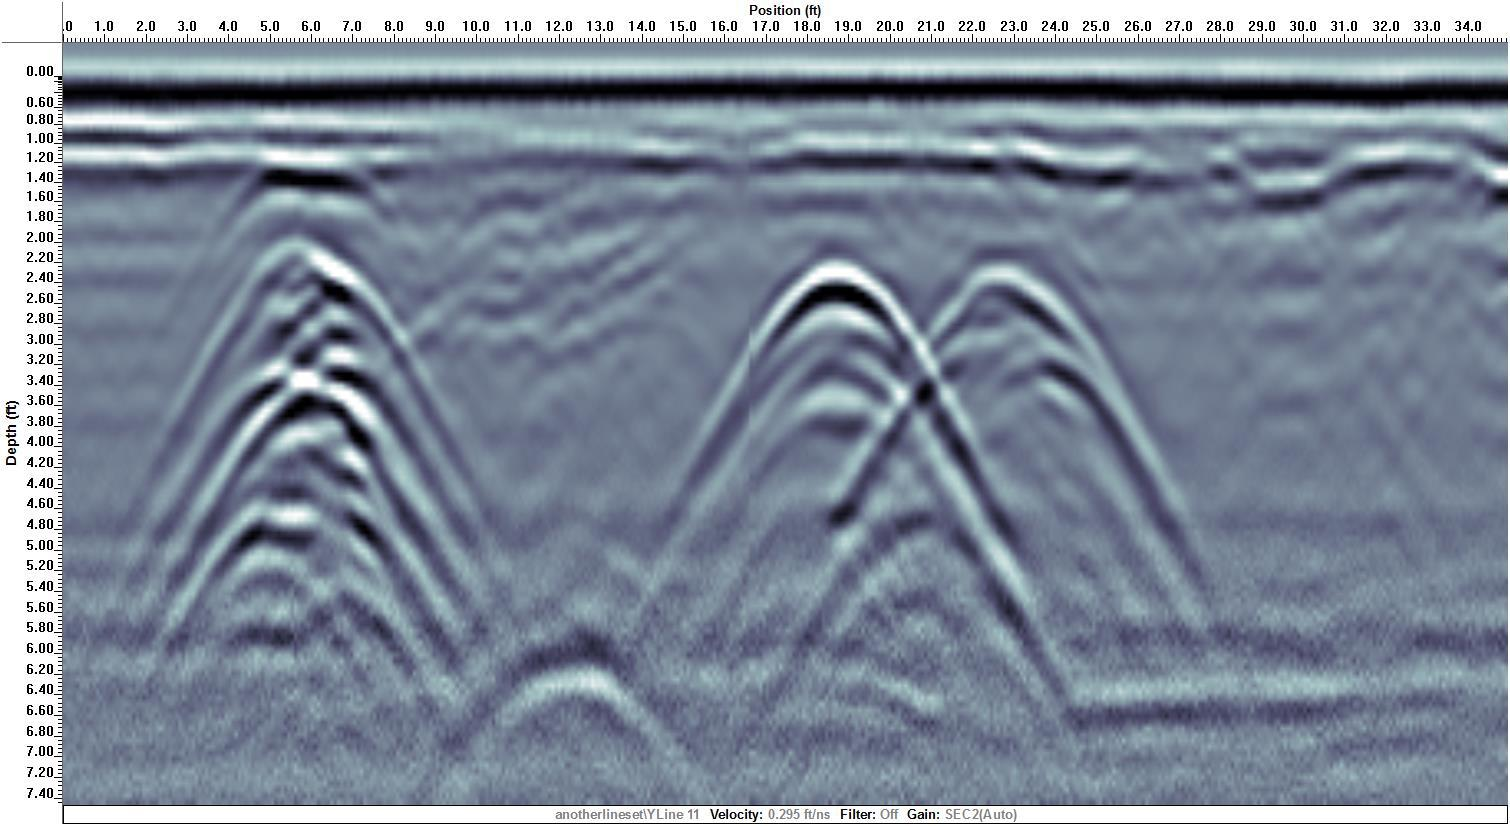hyperbola: (907, 241, 1135, 450), (721, 241, 950, 433)
